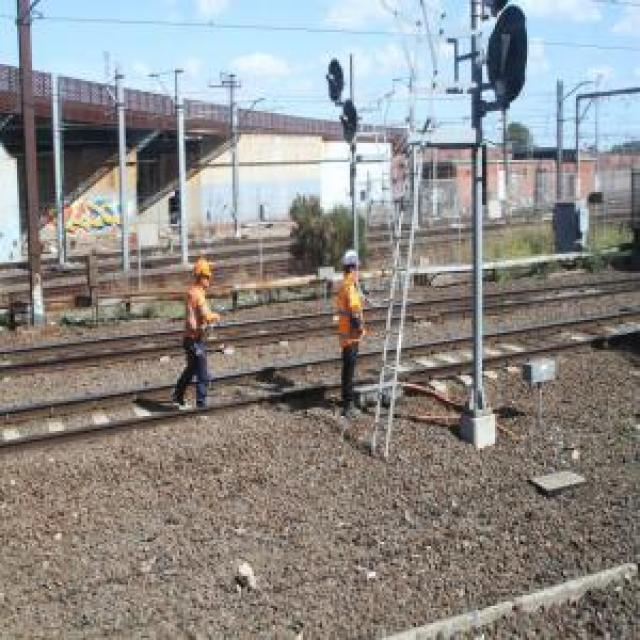danger: (174, 252, 214, 410), (335, 251, 369, 419)
rail: (0, 304, 640, 457), (4, 272, 640, 379)
